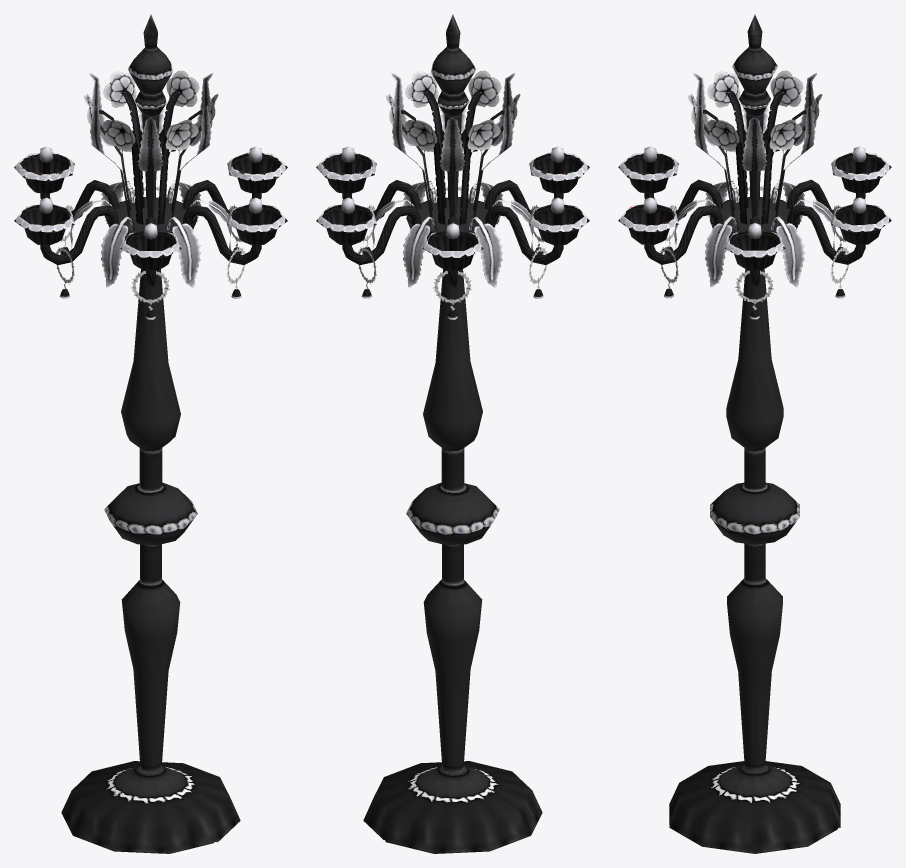
File: FloorLamp01.FBX
The picture shows the model from 3 angles, left to right: view 1: azimuth 30°, elevation 25°; view 2: azimuth 150°, elevation 25°; view 3: azimuth 270°, elevation 25°; orthographic projection.
Parts seen in each view (by area): view 1: FloorLamp01; view 2: FloorLamp01; view 3: FloorLamp01.
Part boxes in pixels (x1,y1,x2,y2): FloorLamp01: (14,14,287,853); FloorLamp01: (316,14,589,853); FloorLamp01: (618,14,891,853).
Size of the model in its own units: 87.91 by 80.12 by 259.
